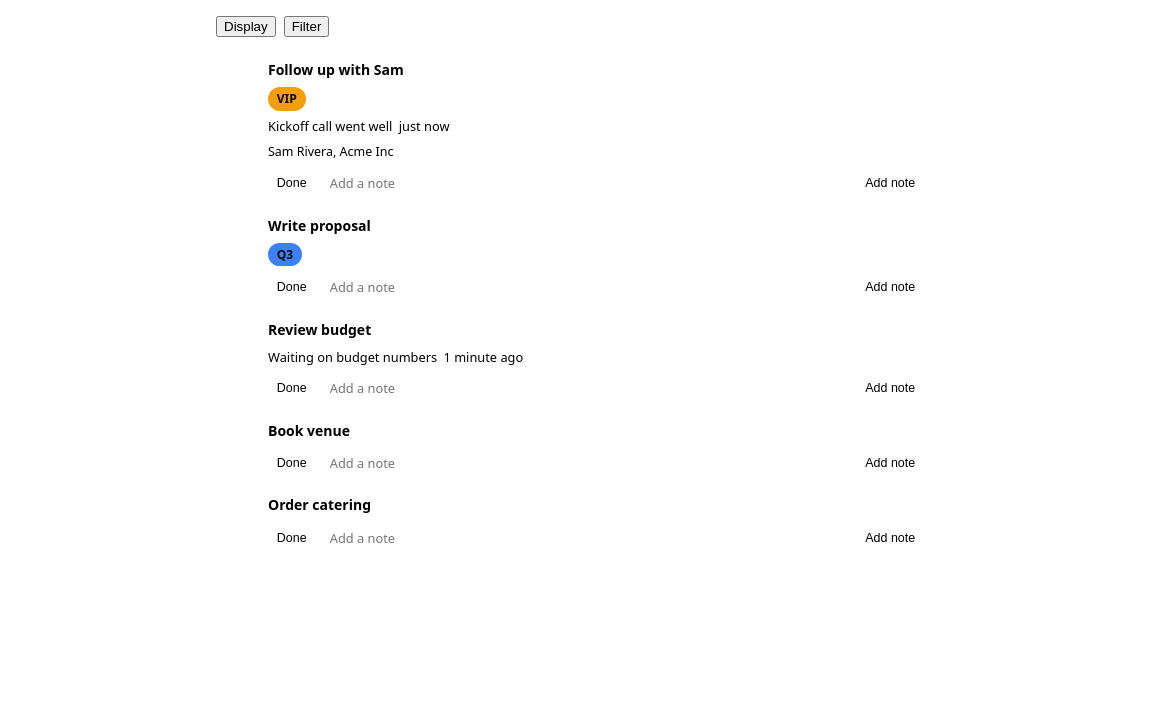
Test case: UpNextPage — Story 3: configure the view › the display popup opens with exactly four toggles reflecting the current view (FR-008)
The image size is (1152, 720).
Step 1. Click the button with test id "up-next-open-display" → (246, 26), box [216, 16, 276, 37]
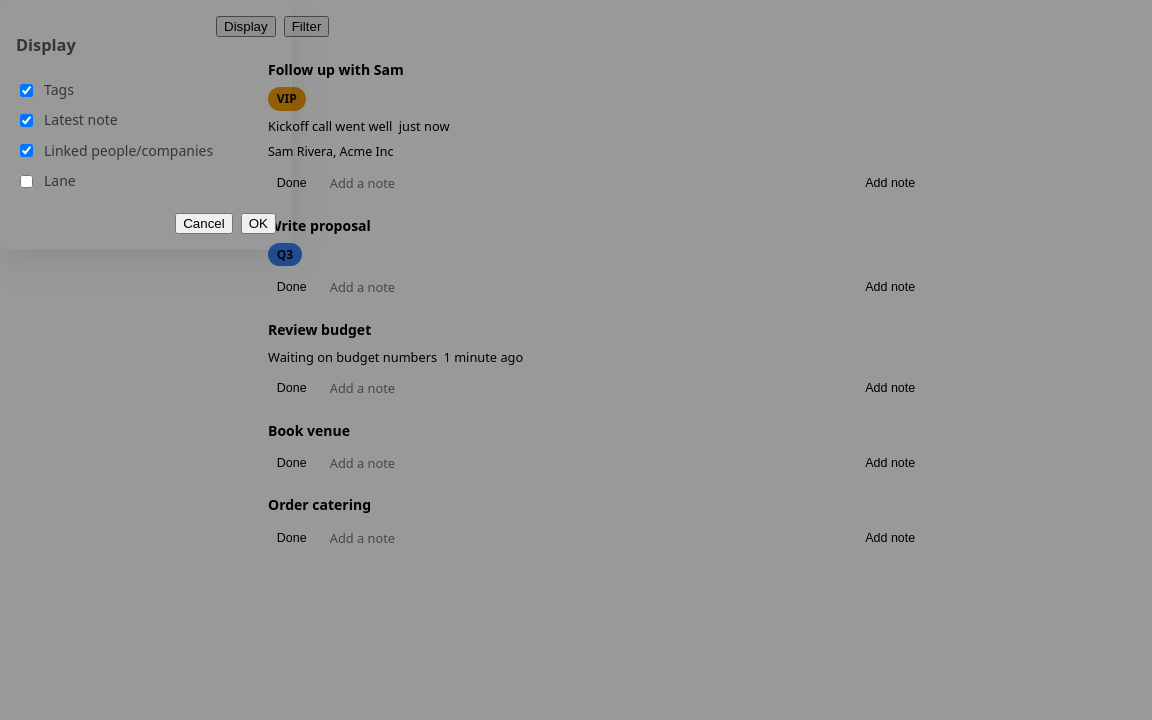
Check: the checkbox with test id "up-next-toggle-tags" is checked, box [20, 84, 33, 97]
Check: the checkbox with test id "up-next-toggle-latestNote" is checked, box [20, 114, 33, 127]
Check: the checkbox with test id "up-next-toggle-links" is checked, box [20, 144, 33, 157]
